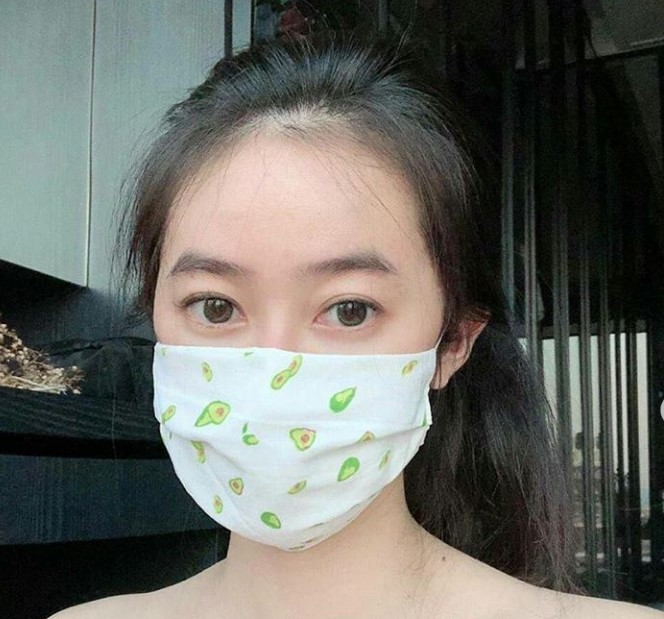face_with_mask: (132, 45, 488, 551)
